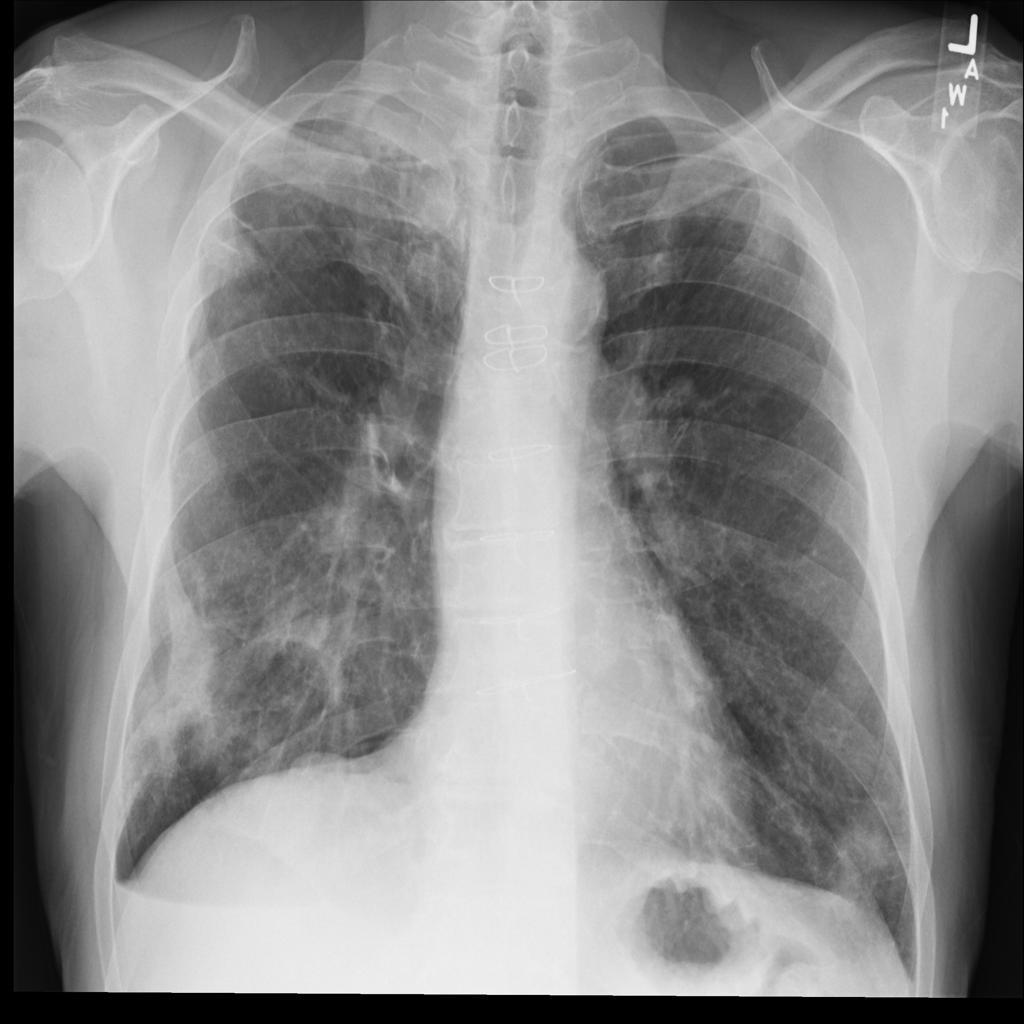nodule: (830, 805, 909, 884), (729, 197, 807, 277), (198, 212, 270, 296), (650, 352, 716, 426)
